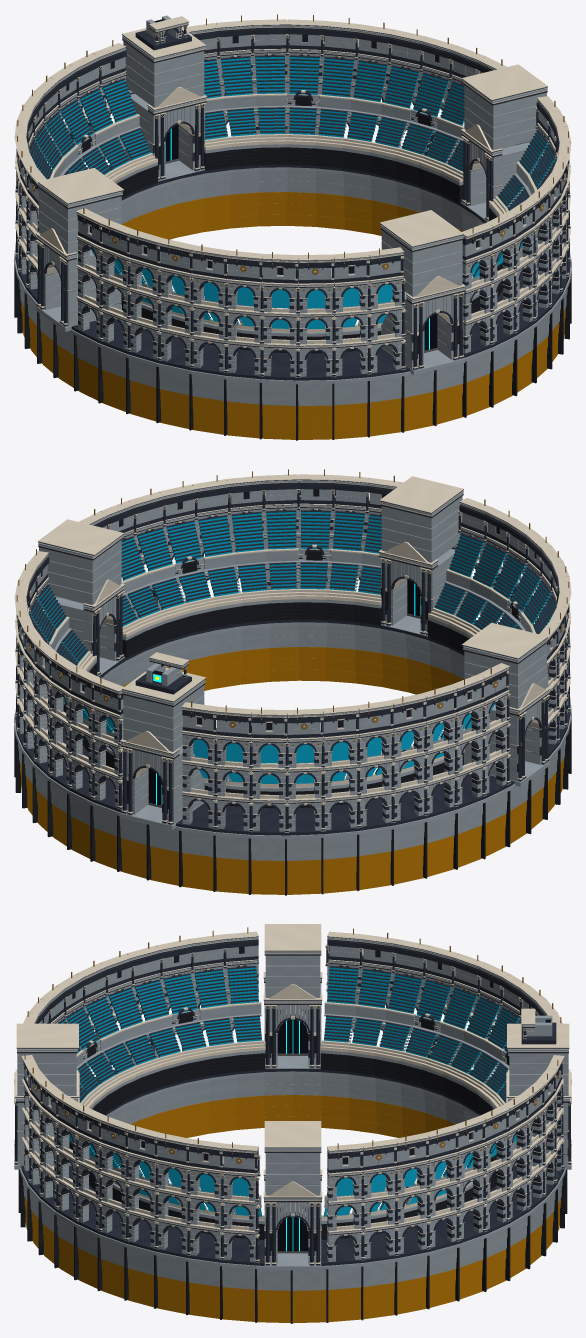
The model's file is SM_ArenaEnvironment_Colosseum_01.glb.
The picture shows the model from 3 angles, top to bottom: view 1: azimuth 30°, elevation 25°; view 2: azimuth 150°, elevation 25°; view 3: azimuth 270°, elevation 25°; orthographic projection. The views are drawn at different scales.
Visible parts, largest first — view 1: COL_StoneMasonry_Q2, COL_CaveaSeating_Q4, COL_StoneMasonry_Q4, COL_StoneMasonry_Q1, COL_AtticCornice_Q2, COL_GateTower_South, COL_GateTower_North, COL_GateTower_East, COL_CaveaSeating_Q3, COL_GateTower_West, COL_StoneMasonry_Q3, COL_CaveaSeating_Q2 (+14 smaller); view 2: COL_StoneMasonry_Q3, COL_CaveaSeating_Q1, COL_StoneMasonry_Q1, COL_StoneMasonry_Q4, COL_AtticCornice_Q3, COL_GateTower_South, COL_GateTower_North, COL_GateTower_East, COL_CaveaSeating_Q2, COL_GateTower_West, COL_StoneMasonry_Q2, COL_CaveaSeating_Q3 (+15 smaller); view 3: COL_StoneMasonry_Q4, COL_StoneMasonry_Q1, COL_CaveaSeating_Q3, COL_CaveaSeating_Q2, COL_StoneMasonry_Q2, COL_StoneMasonry_Q3, COL_GateTower_East, COL_GateTower_West, COL_AtticCornice_Q4, COL_AtticCornice_Q1, COL_AtticCornice_Q2, COL_AtticCornice_Q3 (+13 smaller).
Boxes of the visible parts, x1,y1,x2,y2 form: COL_StoneMasonry_Q2: (56, 220, 436, 440); COL_CaveaSeating_Q4: (193, 28, 490, 202); COL_StoneMasonry_Q4: (177, 34, 483, 271); COL_StoneMasonry_Q1: (436, 110, 571, 424); COL_AtticCornice_Q2: (76, 208, 403, 348); COL_GateTower_South: (380, 210, 465, 375); COL_GateTower_North: (122, 28, 207, 181); COL_GateTower_East: (460, 64, 548, 221); COL_CaveaSeating_Q3: (20, 51, 157, 197); COL_GateTower_West: (35, 168, 123, 331); COL_StoneMasonry_Q3: (14, 57, 180, 378); COL_CaveaSeating_Q2: (77, 216, 403, 353); COL_StoneMasonry_Q3: (149, 676, 531, 895); COL_CaveaSeating_Q1: (95, 483, 392, 657); COL_StoneMasonry_Q1: (103, 489, 408, 726); COL_StoneMasonry_Q4: (14, 565, 151, 880); COL_AtticCornice_Q3: (182, 663, 510, 803); COL_GateTower_South: (378, 476, 463, 636); COL_GateTower_North: (120, 667, 206, 830); COL_GateTower_East: (37, 519, 125, 676); COL_CaveaSeating_Q2: (428, 506, 564, 652); COL_GateTower_West: (461, 622, 550, 786); COL_StoneMasonry_Q2: (405, 512, 571, 833); COL_CaveaSeating_Q3: (182, 672, 506, 808); COL_StoneMasonry_Q4: (293, 1070, 567, 1323); COL_StoneMasonry_Q1: (20, 1066, 292, 1323); COL_CaveaSeating_Q3: (320, 940, 544, 1114); COL_CaveaSeating_Q2: (36, 940, 265, 1114); COL_StoneMasonry_Q2: (18, 945, 292, 1212); COL_StoneMasonry_Q3: (293, 946, 539, 1162); COL_GateTower_East: (263, 1121, 322, 1270); COL_GateTower_West: (263, 924, 322, 1068); COL_AtticCornice_Q4: (327, 1055, 564, 1235); COL_AtticCornice_Q1: (21, 1053, 258, 1235); COL_AtticCornice_Q2: (23, 927, 258, 1052); COL_AtticCornice_Q3: (327, 928, 562, 1052).
Size of the model in its own units: 260 by 107 by 272.
Materials: 12 (12 with a texture image).
